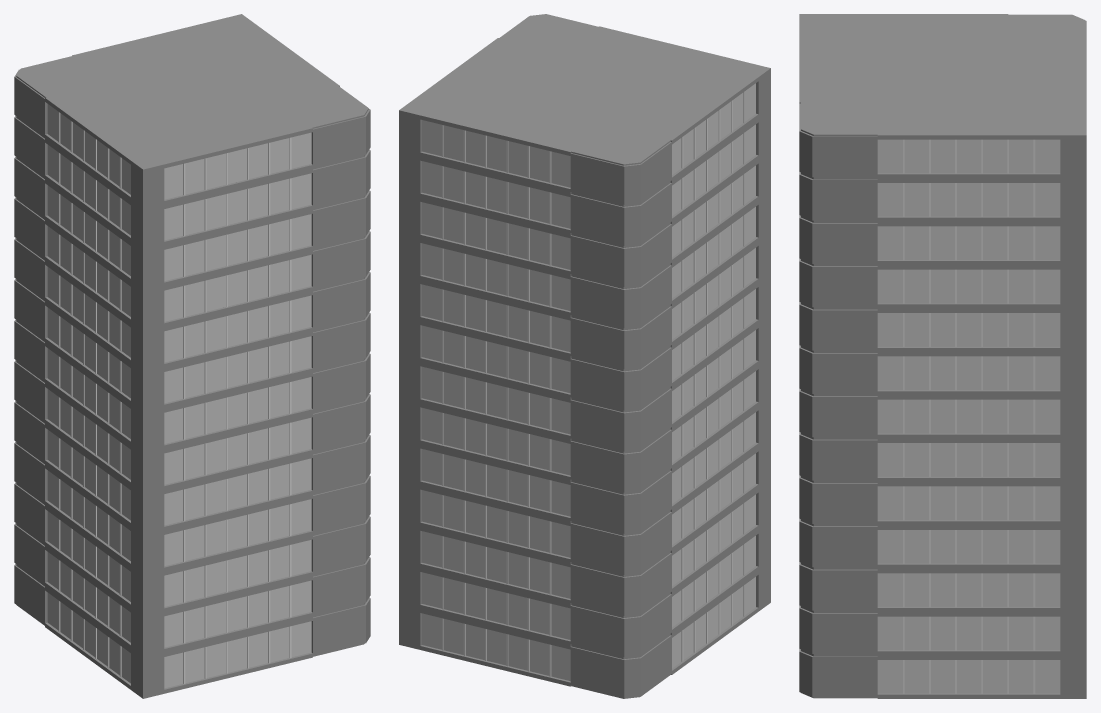
Rendered from Building_03_Fake Interior.FBX.
The picture shows the model from 3 angles, left to right: view 1: azimuth 30°, elevation 25°; view 2: azimuth 150°, elevation 25°; view 3: azimuth 270°, elevation 25°; orthographic projection. The views are drawn at different scales.
Visible parts, largest first — view 1: Building_03_Fake Interior_LOD0; view 2: Building_03_Fake Interior_LOD0; view 3: Building_03_Fake Interior_LOD0.
Part boxes in pixels (bbox=[...]): Building_03_Fake Interior_LOD0: bbox=[14, 14, 370, 698]; Building_03_Fake Interior_LOD0: bbox=[399, 14, 770, 698]; Building_03_Fake Interior_LOD0: bbox=[799, 14, 1086, 698].
Size of what is drawn, in the model's own units: 900 by 1950 by 900.
